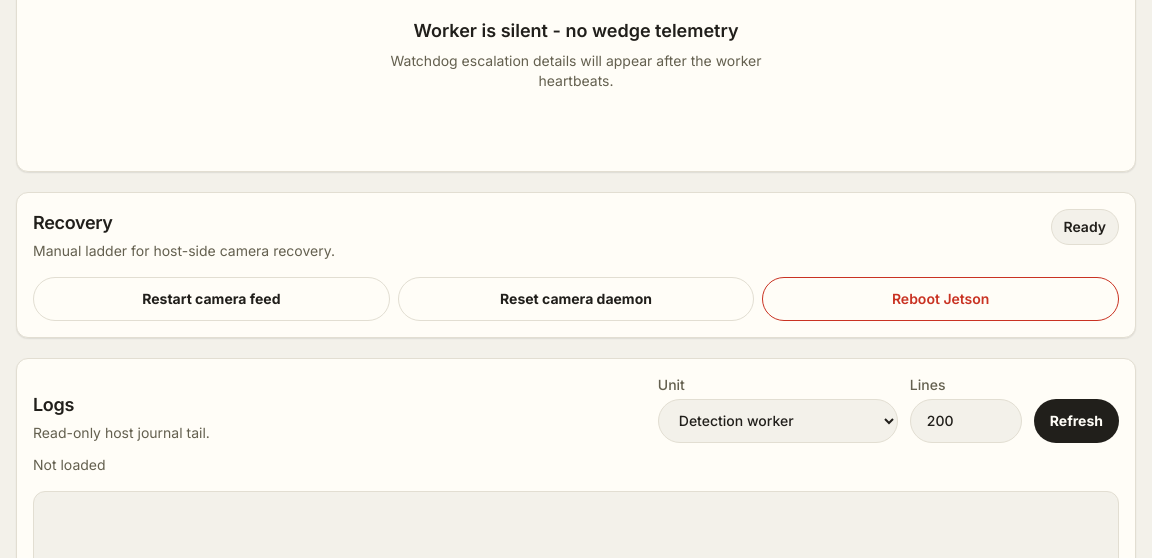
Test: GodView page › Given an owner confirms camera daemon reset, When the request settles, Then status polls to done
(page scrolled)
Step 1. Click the button "Reset camera daemon" → (576, 299), box x1=398 y1=277 x2=754 y2=321
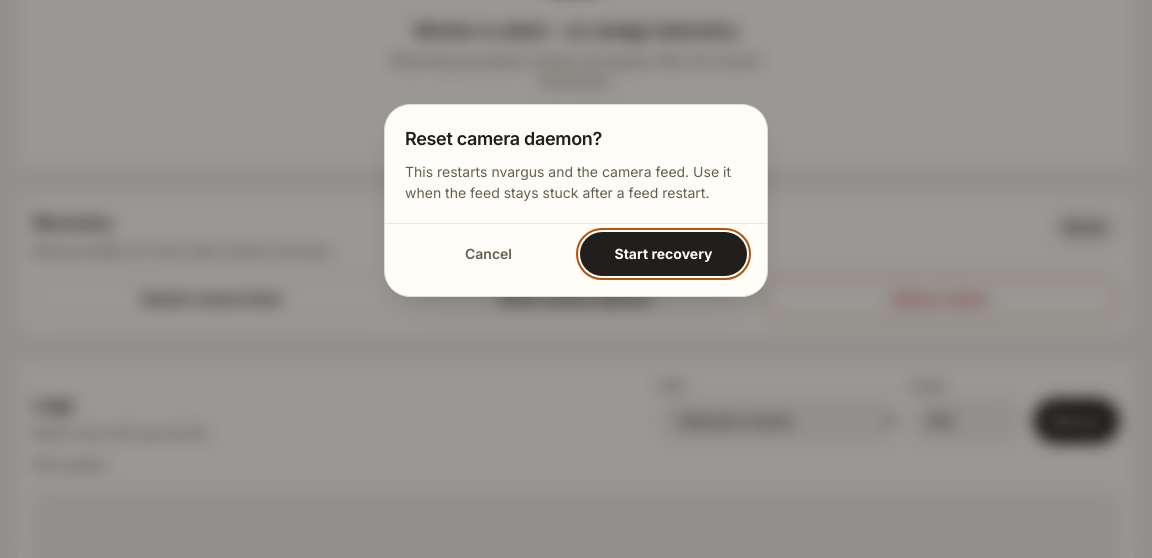
Step 2. Click the button "Start recovery" → (664, 254), box x1=580 y1=232 x2=747 y2=276
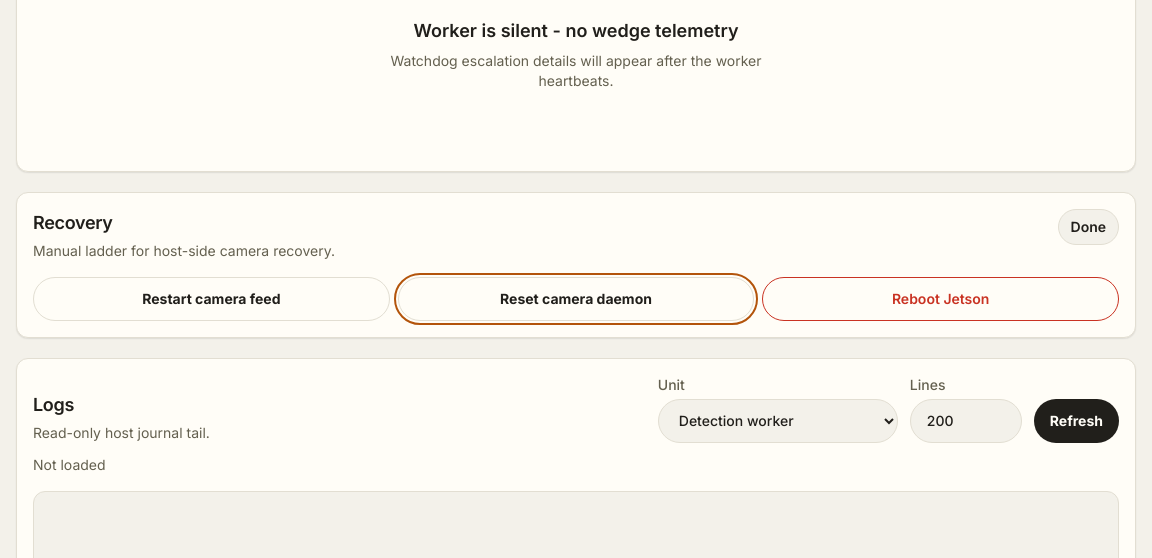
Check: the message named "recovery status" reads "Done", box x1=1070 y1=218 x2=1106 y2=235
